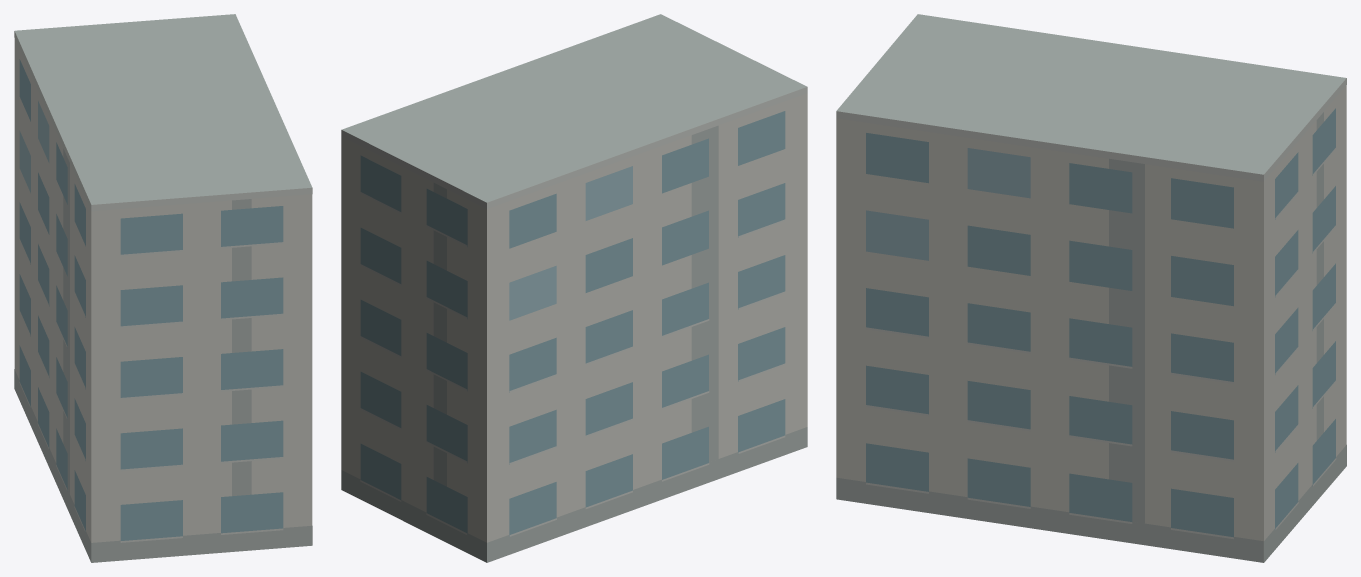
Rendered from survey-upis-32893414.glb.
3 views of the same model, side by side, from view 1: azimuth 30°, elevation 25°; view 2: azimuth 150°, elevation 25°; view 3: azimuth 270°, elevation 25° (orthographic). The views are drawn at different scales.
Parts seen in each view (by area): view 1: survey-upis-32893414.tmp; view 2: survey-upis-32893414.tmp; view 3: survey-upis-32893414.tmp.
Part boxes in pixels (box(x1,y1,x2,y2)): survey-upis-32893414.tmp: box(14, 14, 312, 562); survey-upis-32893414.tmp: box(341, 14, 807, 562); survey-upis-32893414.tmp: box(836, 14, 1346, 562).
Size of the model in its own units: 11.95 by 13.45 by 16.04.
